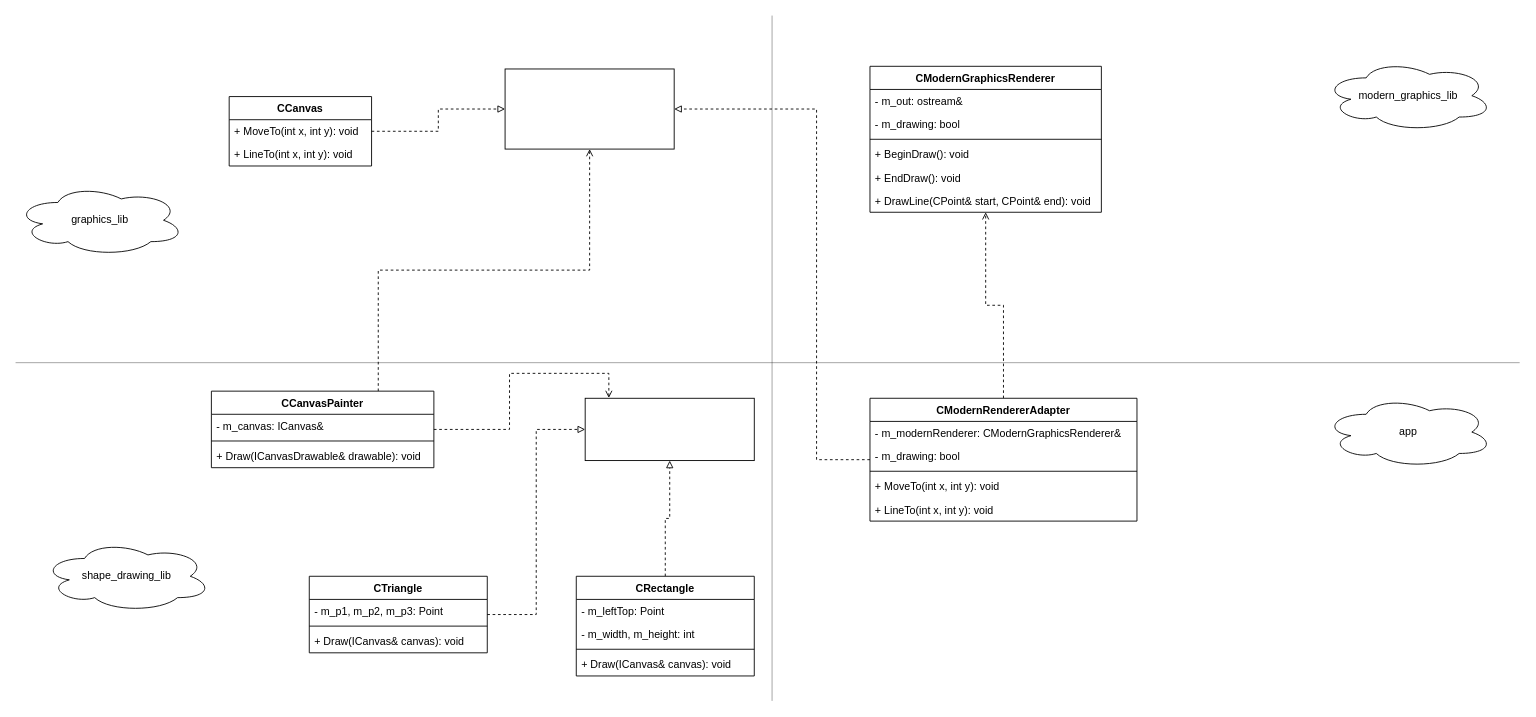
Image size: 1536x717. Some labels were removed from this diagram. The centre of each missing label's shape, as x and y in pixels:
<<Interface>> ICanvas + MoveTo(int x, int y): void + LineTo(int x, int y): void: point 589,108
<<Interface>> ICanvasDrawable + Draw(ICanvas& canvas): void: point 669,429
